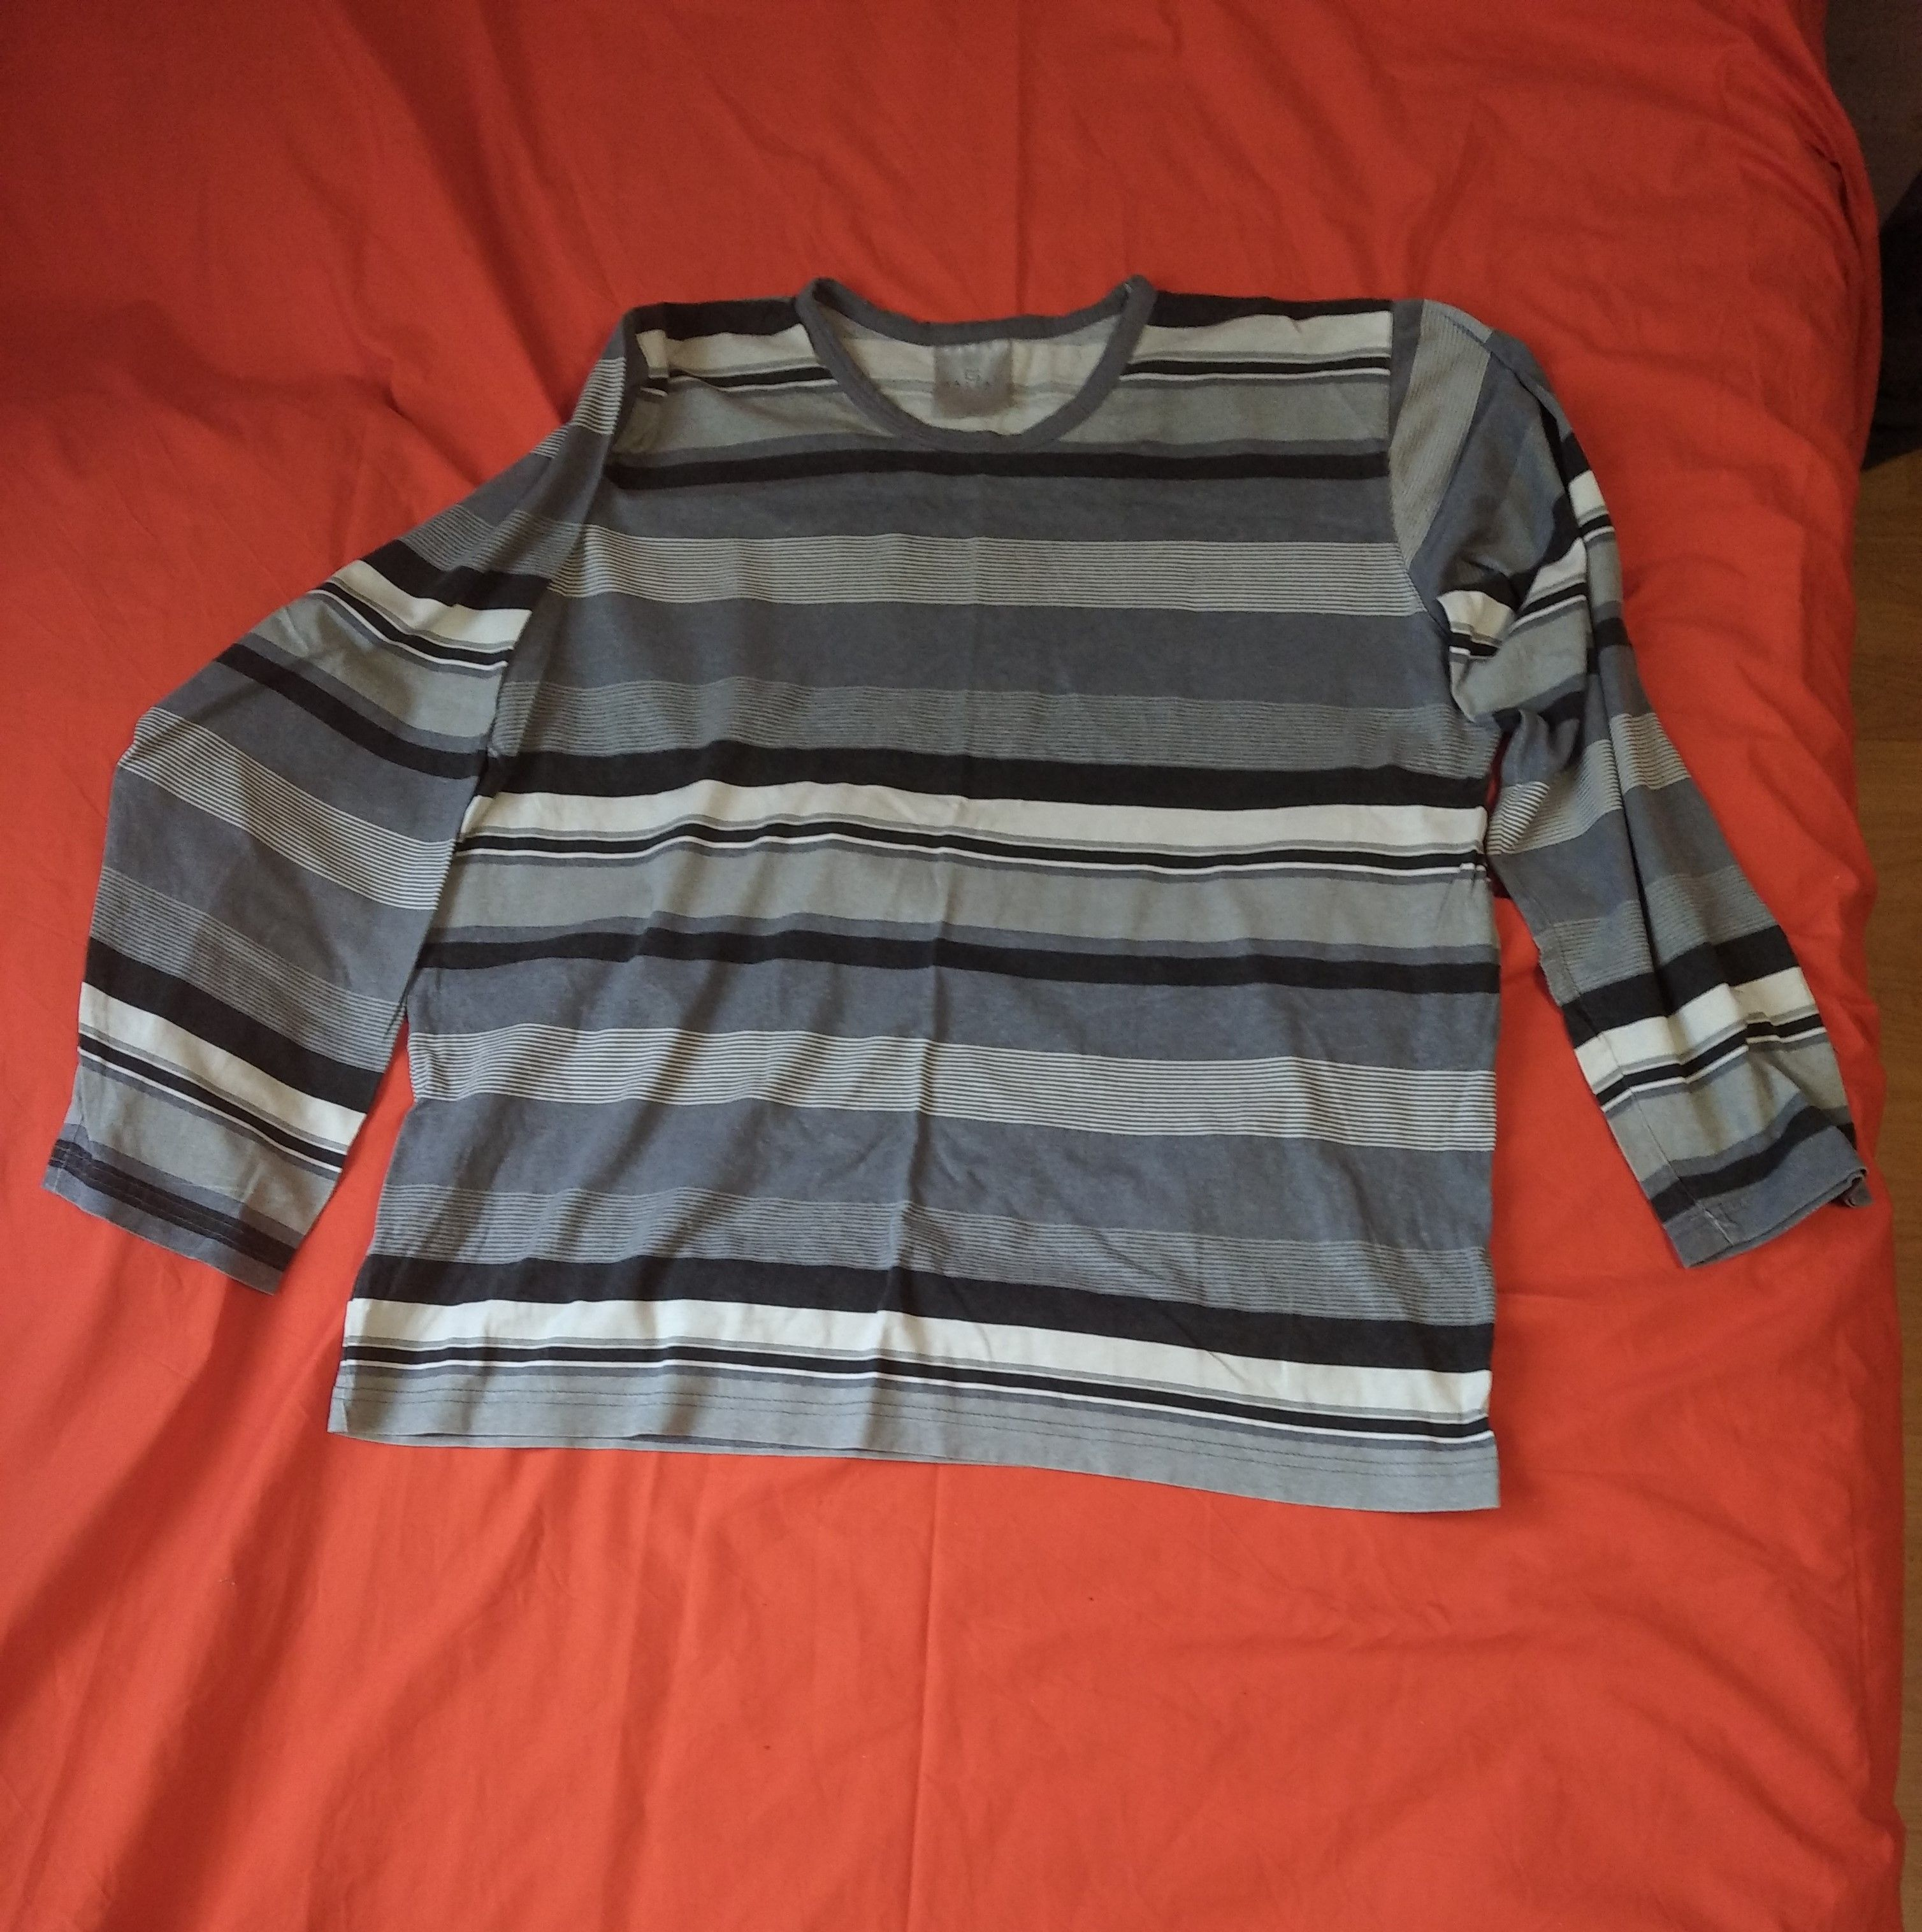clothes: (49, 245, 1882, 1543)
